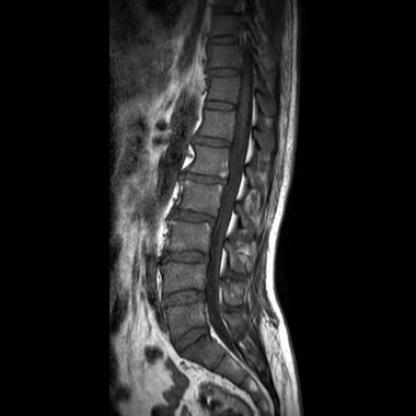Annular Tearrotation: (162, 285, 206, 311)
Disc Bulgerotation: (162, 285, 206, 311), (158, 247, 209, 266), (165, 209, 214, 226)
Disc Protrusionrotation: (180, 169, 228, 189)
